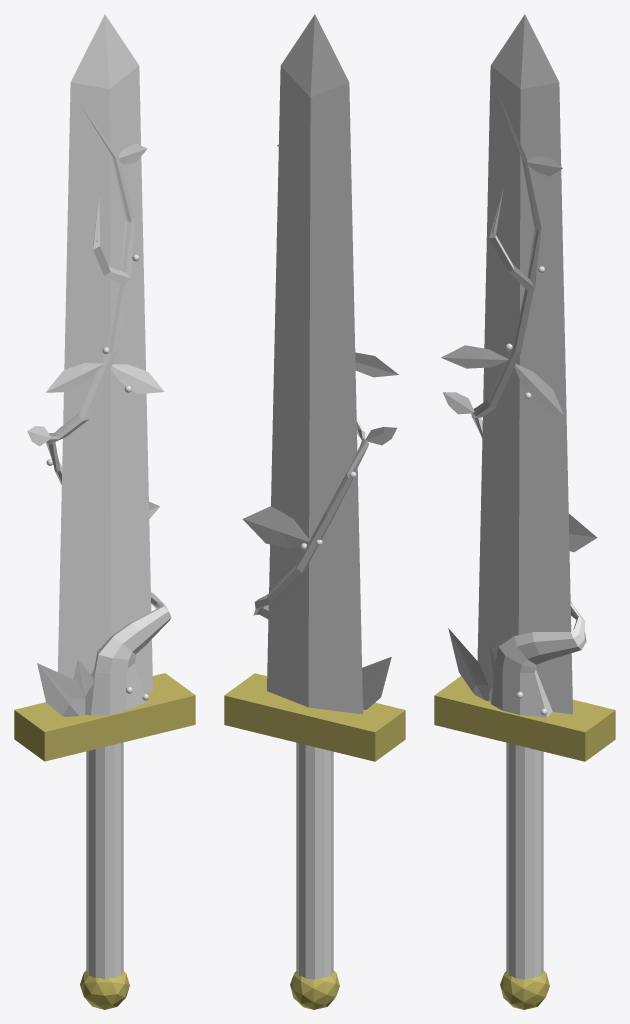
The model's file is Vine Sword.fbx.
3 views of the same model, side by side, from view 1: azimuth 30°, elevation 25°; view 2: azimuth 150°, elevation 25°; view 3: azimuth 330°, elevation 25° (orthographic).
Visible parts, largest first — view 1: Vine Sword; view 2: Vine Sword; view 3: Vine Sword.
Part boxes in pixels (box(x1,y1,x2,y2)): Vine Sword: box(14, 14, 195, 1009); Vine Sword: box(224, 14, 405, 1009); Vine Sword: box(434, 14, 615, 1009).
Size of the model in its own units: 15.32 by 93.44 by 5.42.
